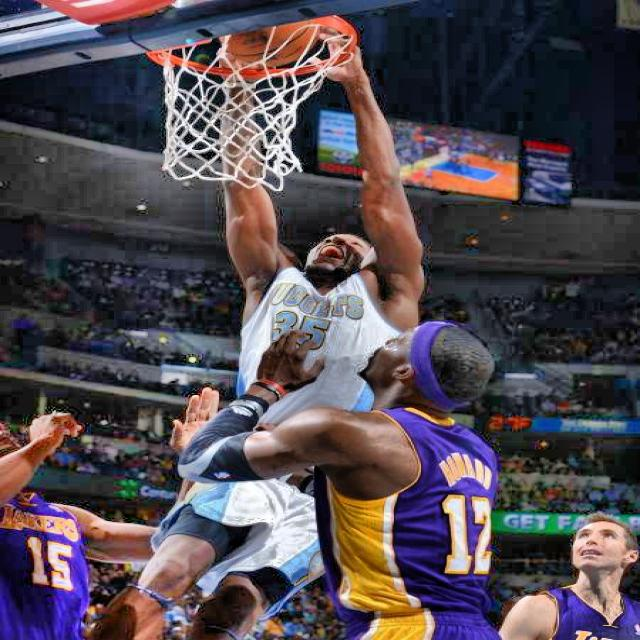rim: (148, 11, 360, 194)
